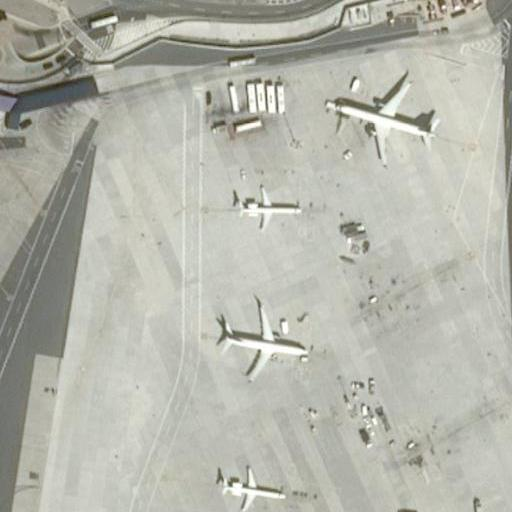Aircraft: (328, 74, 434, 156), (211, 301, 303, 376), (210, 457, 289, 512), (224, 183, 301, 228)
